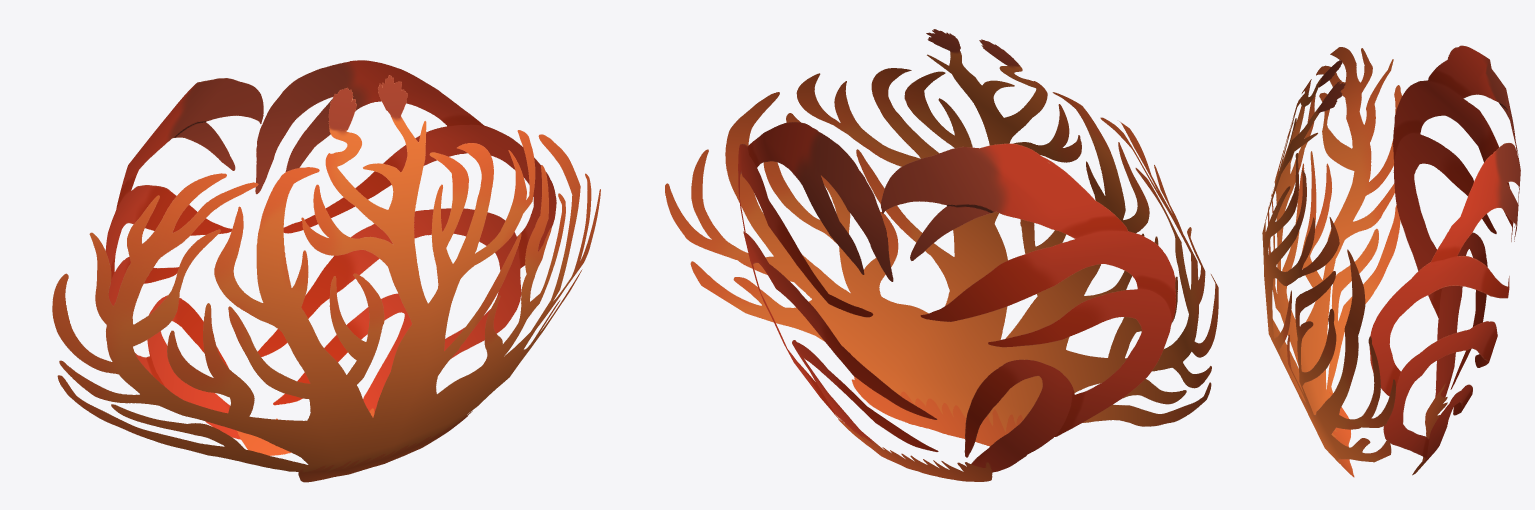
File: crab-coral.fbx
3 renders of one model, left to right at view 1: azimuth 30°, elevation 25°; view 2: azimuth 150°, elevation 25°; view 3: azimuth 270°, elevation 25°, orthographic. The views are drawn at different scales.
Visible parts, largest first — view 1: crab_coral; view 2: crab_coral; view 3: crab_coral.
Part boxes in pixels (x1,y1,x2,y2): crab_coral: (52, 60, 600, 482); crab_coral: (665, 29, 1218, 481); crab_coral: (1262, 45, 1520, 477).
Bounding box in the file's own units: 8.03 × 5.68 × 3.17.
2 materials, 2 textured.
